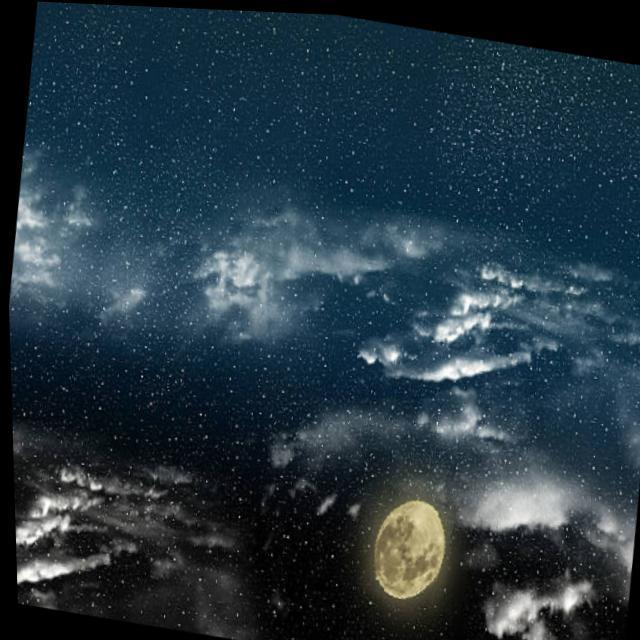moon: (352, 481, 453, 612)
